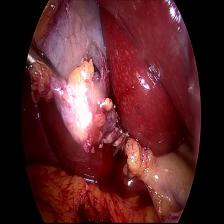Grasper: (26, 36, 66, 102)
